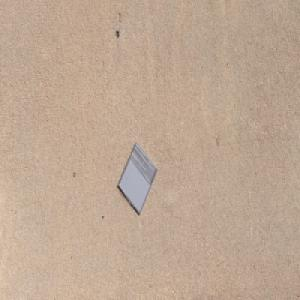PlasticPart: (118, 141, 158, 215)
